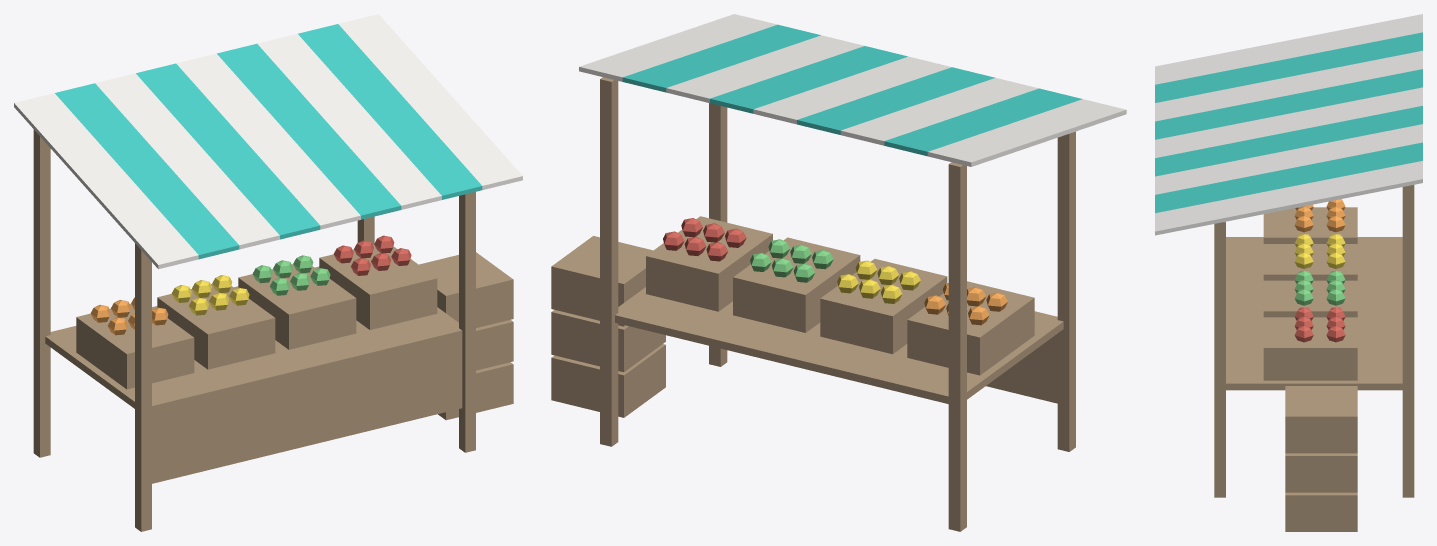
Rendered from fv_stall.glb.
3 renders of one model, left to right at view 1: azimuth 30°, elevation 25°; view 2: azimuth 150°, elevation 25°; view 3: azimuth 270°, elevation 25°, orthographic. The views are drawn at different scales.
Parts seen in each view (by area): view 1: fv_stall; view 2: fv_stall; view 3: fv_stall.
Boxes of the visible parts, box(x1,y1,x2,y2) form: fv_stall: box(14, 14, 522, 531); fv_stall: box(551, 14, 1126, 531); fv_stall: box(1155, 14, 1422, 531).
Size of the model in its own units: 3.15 by 2.48 by 1.85.
